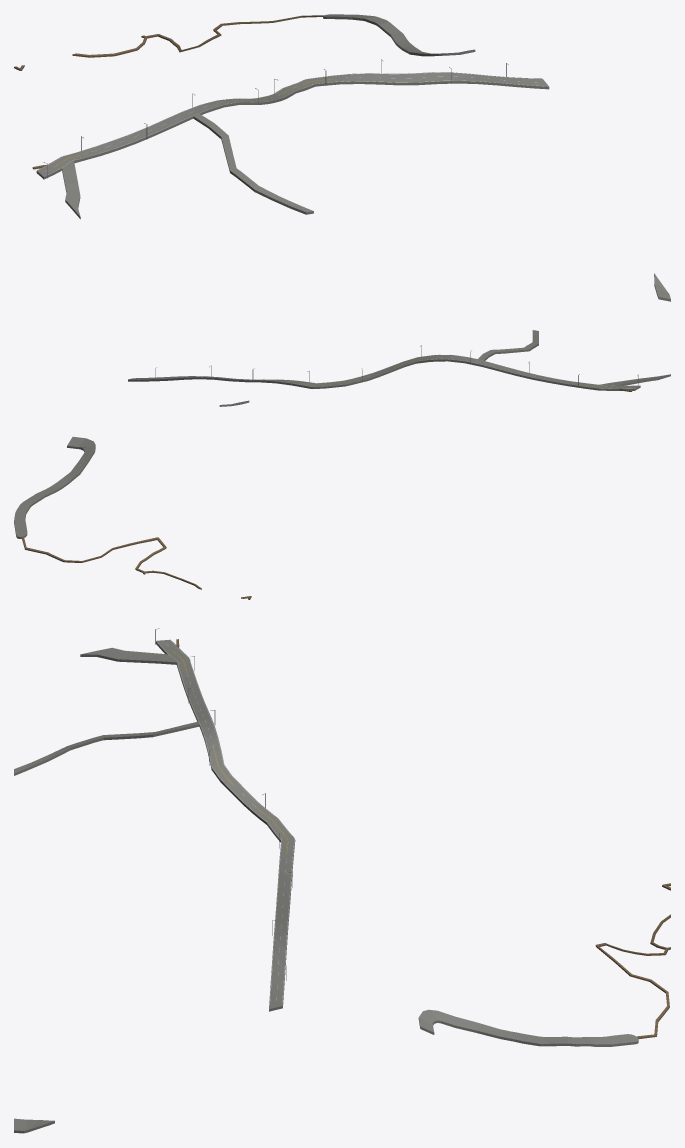
Rendered from 17-109440-59489.537cdc1d.glb.
The picture shows the model from 3 angles, top to bottom: view 1: azimuth 30°, elevation 25°; view 2: azimuth 150°, elevation 25°; view 3: azimuth 270°, elevation 25°; orthographic projection. The views are drawn at different scales.
Bounding box in the file's own units: 294 × 114 × 292.
